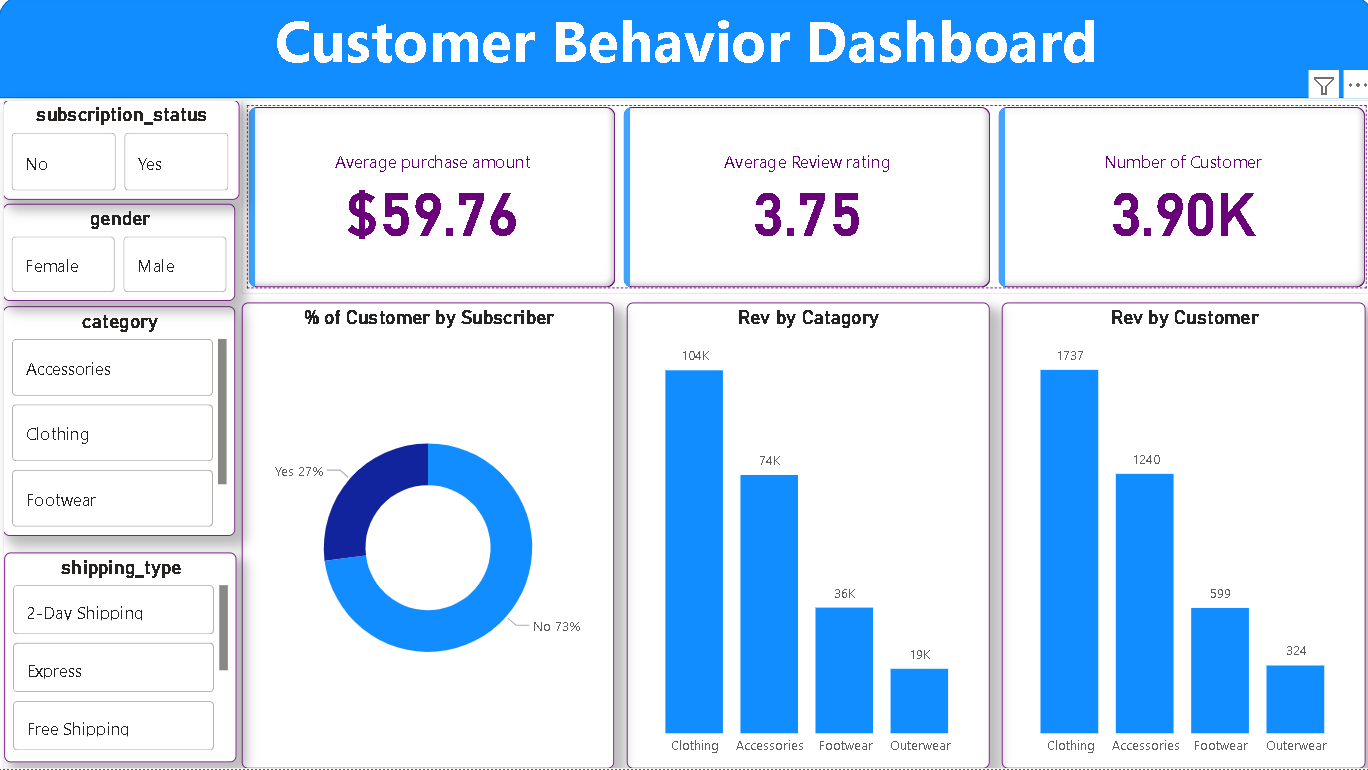

The dashboard page shown, as its layout file describes it:
{"tool":"powerbi","page":{"name":"Page 1","canvas":[1280,720],"ordinal":0},"visuals":[{"type":"cardVisual","fields":{"Data":["project_1 customer.Average purchase amount","project_1 customer.Average Review rating","project_1 customer.Number of Customer"]},"box":[226.5,97.2,1053.5,180.2],"z":0,"group":"g1"},{"type":"advancedSlicerVisual","fields":{"Values":["project_1 customer.subscription_status"]},"box":[4.5,97.6,219.8,93],"z":1000,"group":"g1"},{"type":"shape","box":[0,0,1280.3,96.1],"z":2000},{"type":"advancedSlicerVisual","fields":{"Values":["project_1 customer.gender"]},"box":[5.1,194.1,216.3,90.7],"z":3000,"group":"g1"},{"type":"textbox","box":[0,0,1280.3,96.1],"z":4000},{"type":"advancedSlicerVisual","fields":{"Values":["project_1 customer.category"]},"box":[4.7,289.5,216.3,214],"z":5000},{"type":"donutChart","title":"% of Customer by Subscriber","fields":{"Category":["project_1 customer.subscription_status"],"Y":["CountNonNull(project_1 customer.customer_id)"]},"box":[226.5,285.6,346.5,433.7],"z":6000,"group":"g1"},{"type":"advancedSlicerVisual","fields":{"Values":["project_1 customer.shipping_type"]},"box":[5.1,518.5,216.3,195.3],"z":7000,"group":"g1"},{"type":"clusteredColumnChart","title":"Rev by Catagory","fields":{"Y":["Sum(project_1 customer.purchase_amount)"],"Category":["project_1 customer.category"]},"box":[584.7,285.6,337.2,433.7],"z":8000,"group":"g1"},{"type":"clusteredColumnChart","title":"Rev by Customer","fields":{"Category":["project_1 customer.category"],"Y":["CountNonNull(project_1 customer.customer_id)"]},"box":[933.5,285.6,338.4,433.7],"z":9000,"group":"g1"},{"type":"group","id":"g1","title":"Group 1","box":[4.5,97.2,1275.4,623],"z":9001}]}

Visuals, with their boxes in screenshot pixels (x1, y1, x2, y2), scaled from the page's 1280x720 canvas onto the 1368x770 screenshot:
cardVisual - project_1 customer.Average purchase amount x project_1 customer.Average Review rating: BBox(242, 104, 1367, 297)
advancedSlicerVisual - project_1 customer.subscription_status: BBox(5, 104, 240, 204)
shape: BBox(0, 0, 1367, 103)
advancedSlicerVisual - project_1 customer.gender: BBox(5, 208, 237, 305)
textbox: BBox(0, 0, 1367, 103)
advancedSlicerVisual - project_1 customer.category: BBox(5, 310, 236, 538)
"% of Customer by Subscriber" donutChart: BBox(242, 305, 612, 769)
advancedSlicerVisual - project_1 customer.shipping_type: BBox(5, 555, 237, 763)
"Rev by Catagory" clusteredColumnChart: BBox(625, 305, 985, 769)
"Rev by Customer" clusteredColumnChart: BBox(998, 305, 1359, 769)
"Group 1" group: BBox(5, 104, 1367, 769)
